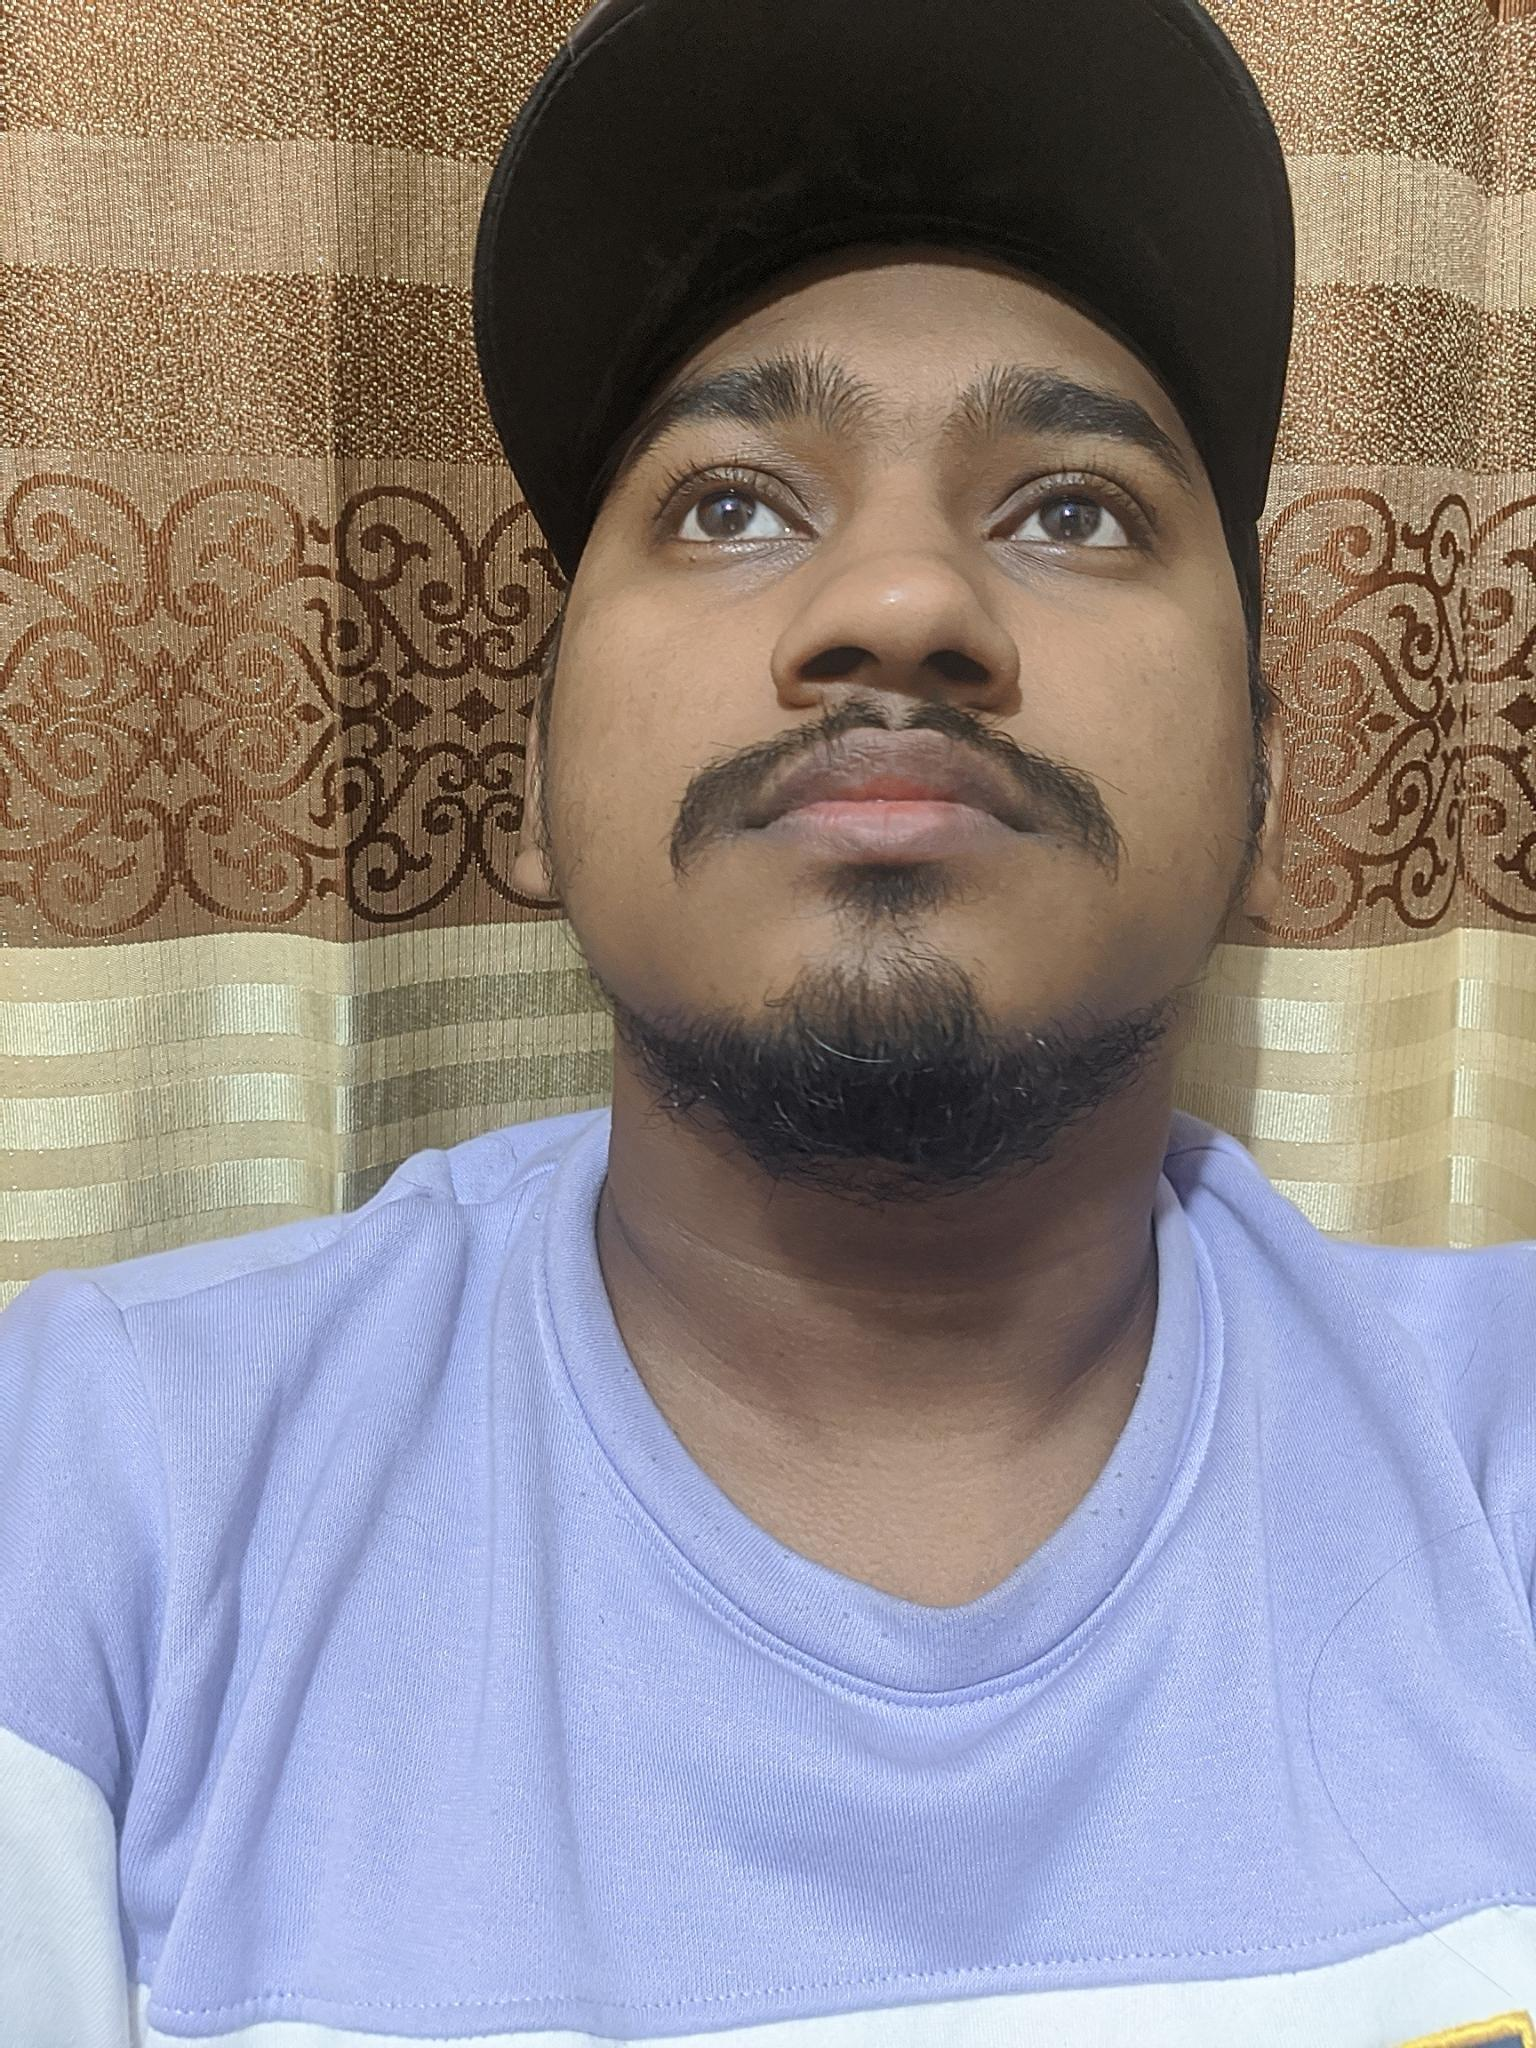Neutral: (584, 303, 1223, 1122)
